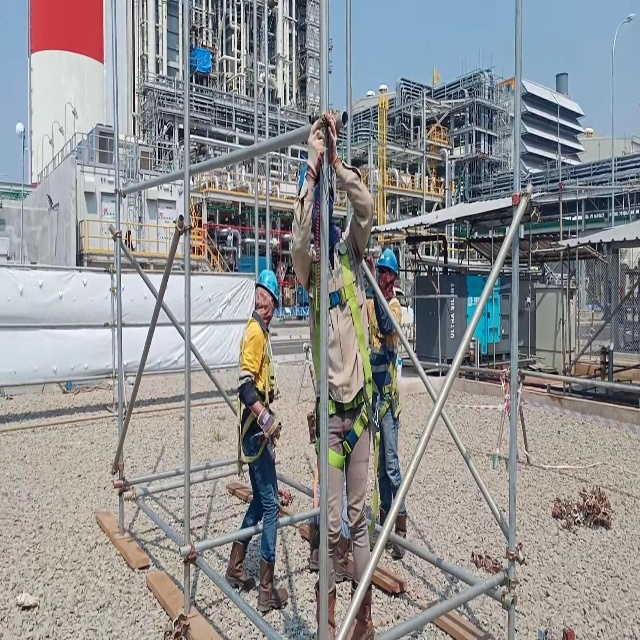Arnes_seguridad: (310, 234, 374, 469), (234, 312, 280, 471), (365, 292, 402, 428)
